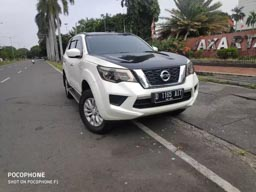plat: (155, 89, 185, 98)
